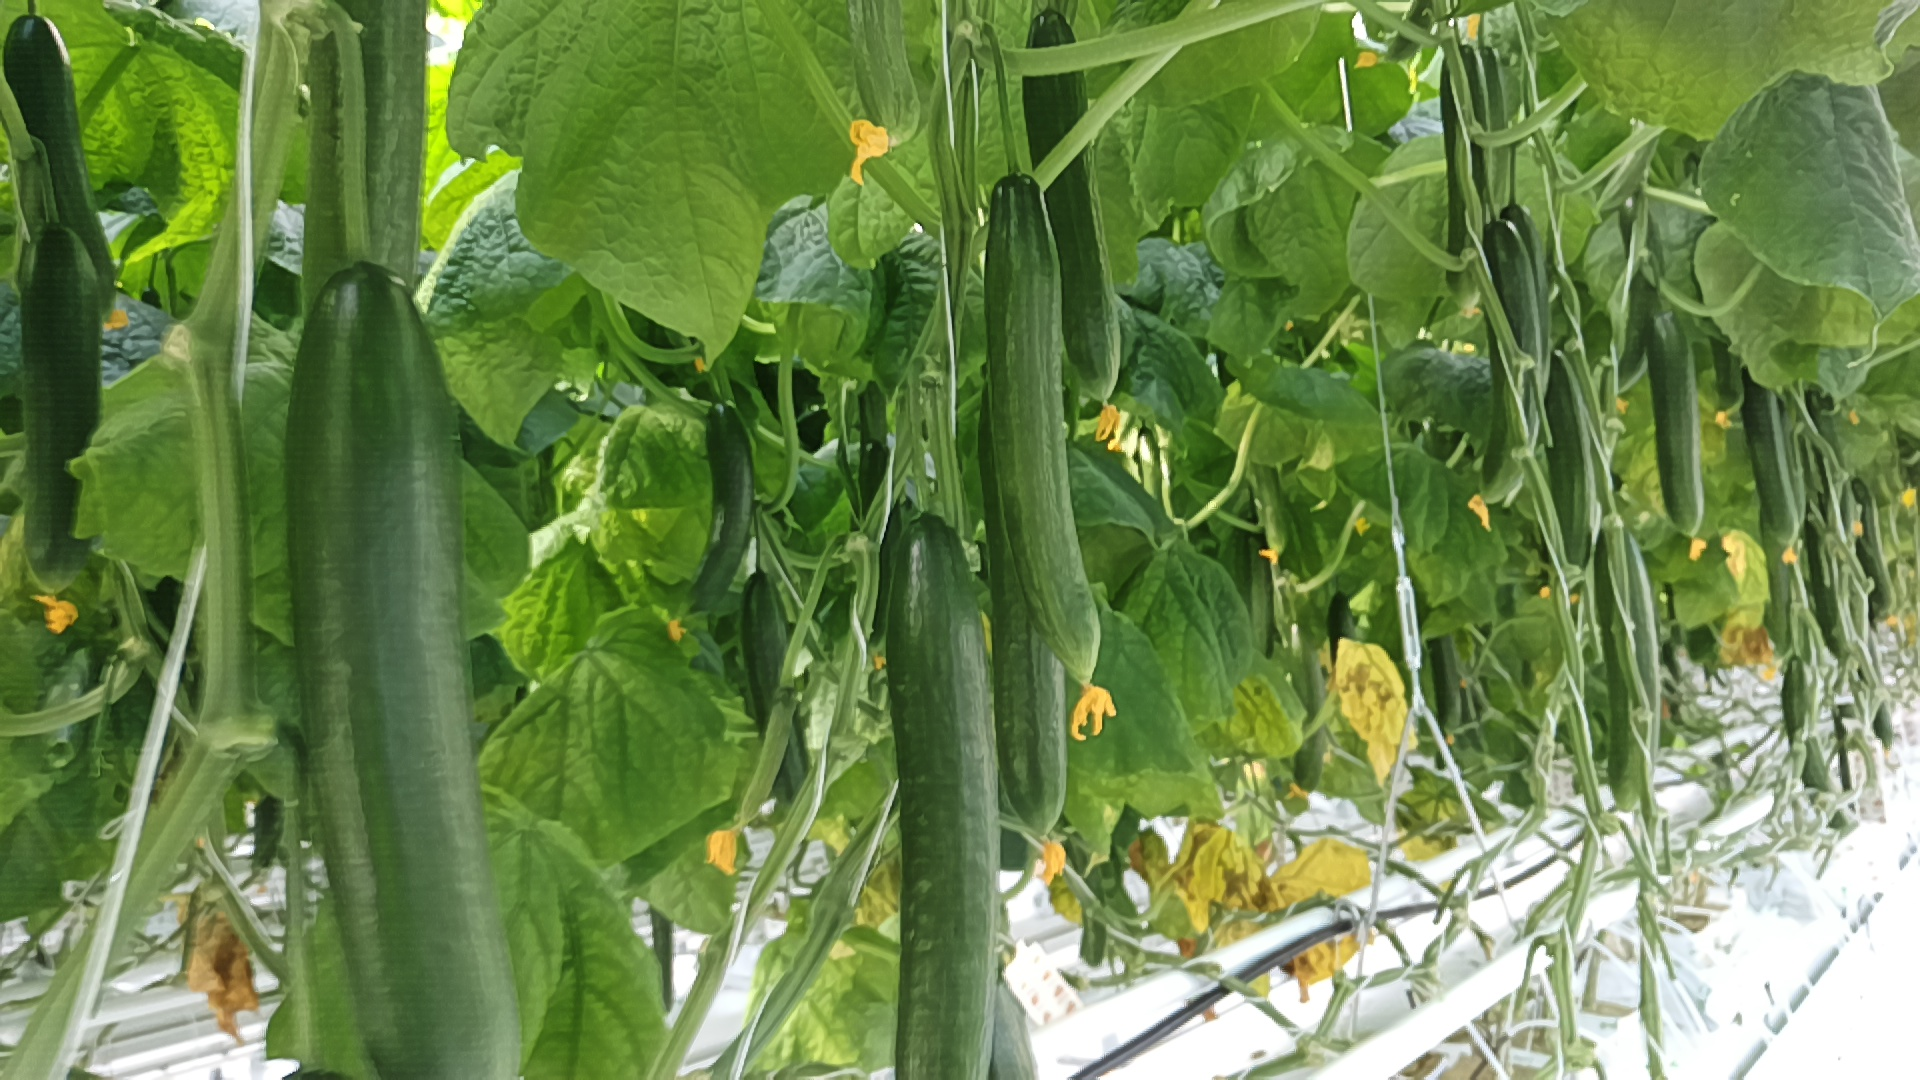gurka: (233, 247, 531, 1073), (971, 164, 1141, 684), (1017, 5, 1154, 407), (1, 200, 128, 611), (1466, 211, 1559, 541), (1633, 295, 1737, 541), (737, 560, 822, 800), (683, 390, 760, 616)
